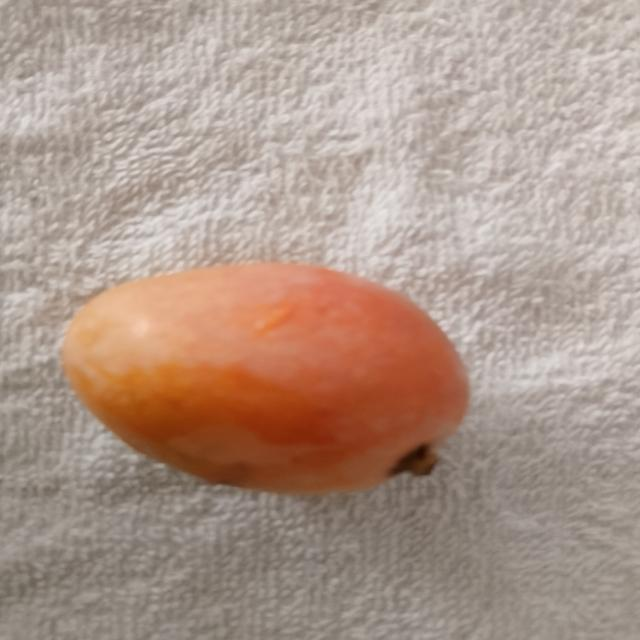mango: (61, 253, 476, 502)
